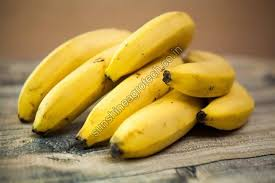looks_defective: (7, 12, 262, 159)
